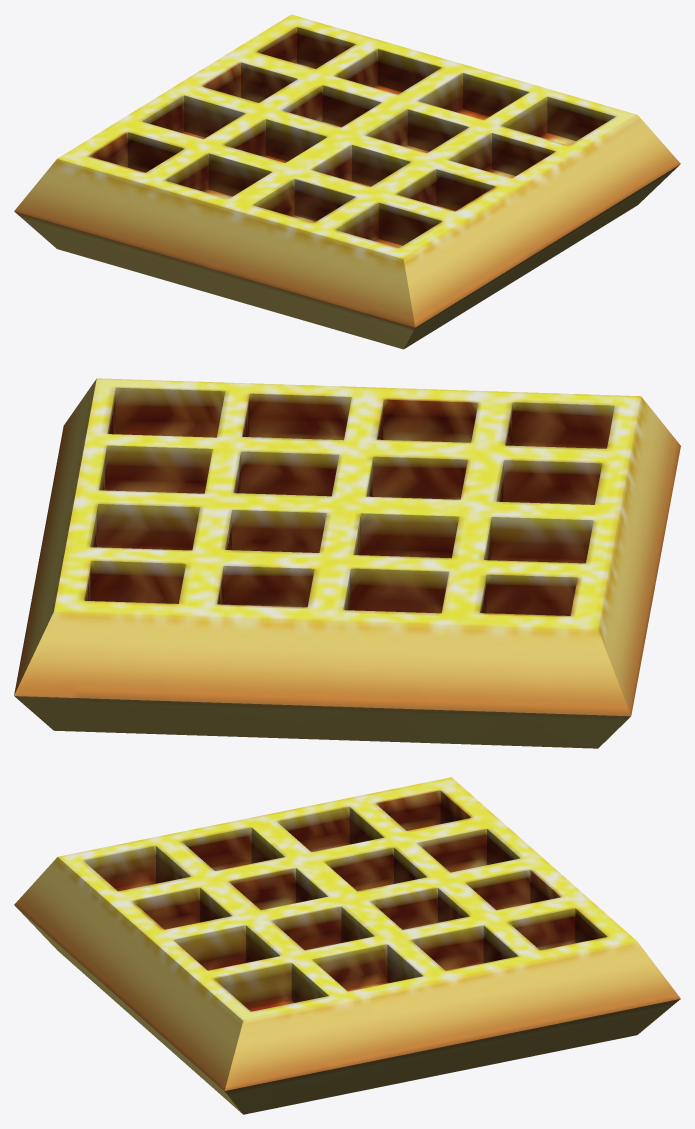
File: waffle.fbx
3 renders of one model, top to bottom at view 1: azimuth 30°, elevation 25°; view 2: azimuth 150°, elevation 25°; view 3: azimuth 270°, elevation 25°, orthographic. The views are drawn at different scales.
Visible parts, largest first — view 1: waffle1; view 2: waffle1; view 3: waffle1.
Part boxes in pixels (<box>): waffle1: <box>14,14,680,349</box>; waffle1: <box>14,378,680,748</box>; waffle1: <box>14,777,680,1114</box>.
Size of the model in its own units: 4.63 by 0.7278 by 4.69.
